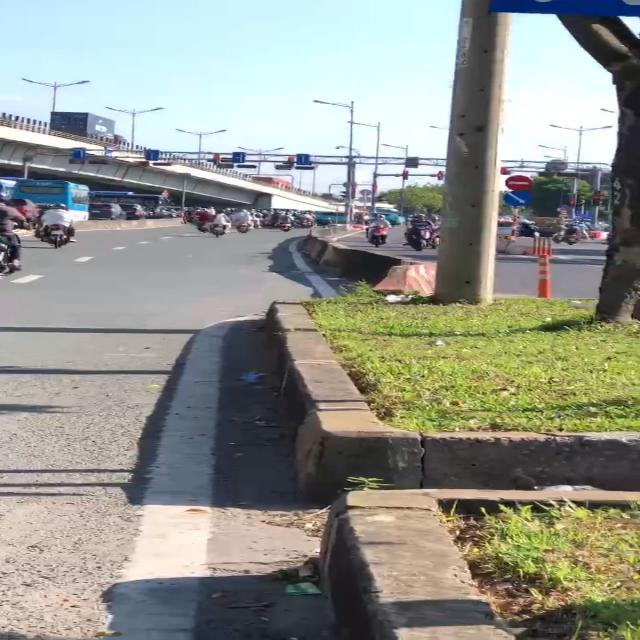Bien bao cam di nguoc chieu: (502, 173, 535, 192)
Bien bao huong phai di vong chuong ngai vat: (502, 190, 534, 209)
